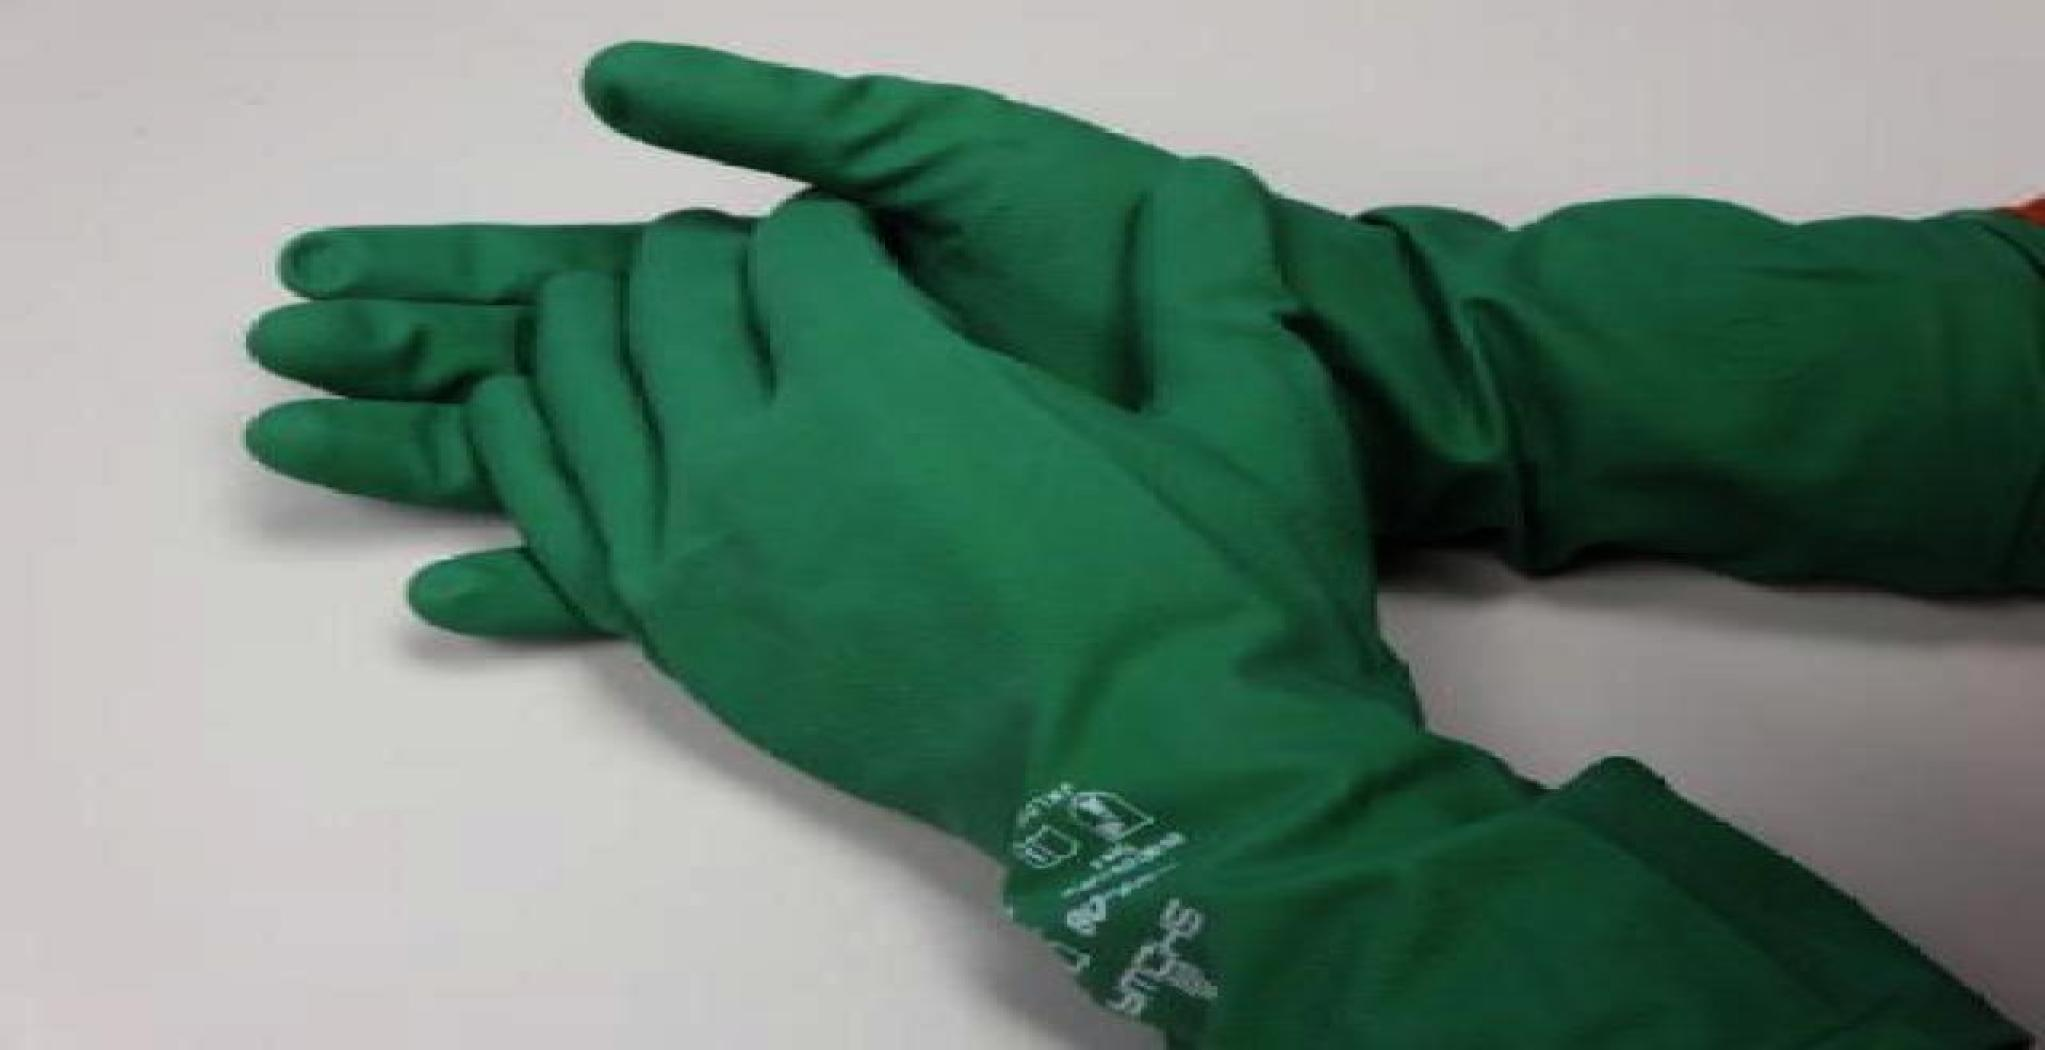gloved: (501, 210, 1997, 1038), (230, 95, 2045, 595)
